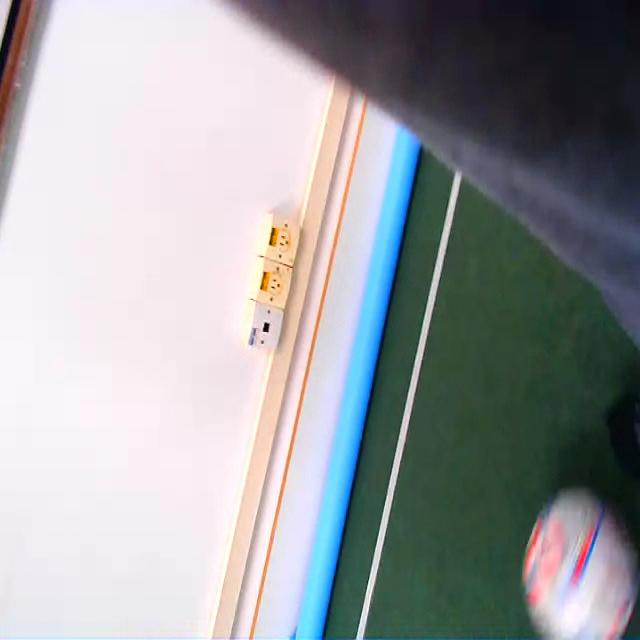ball: (523, 495, 635, 640)
